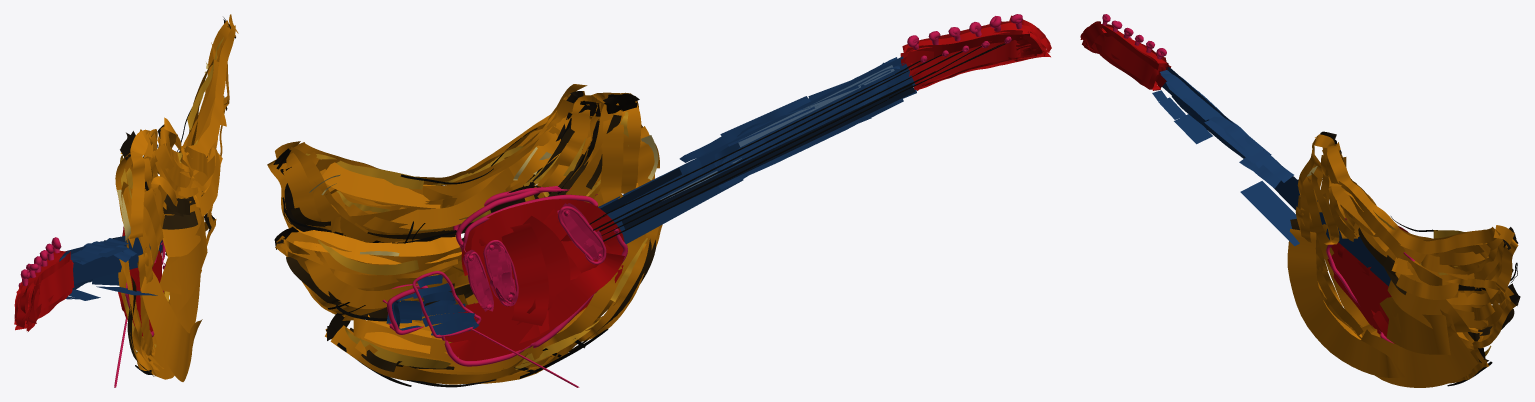
Rendered from guitar.fbx.
3 views of the same model, side by side, from view 1: azimuth 30°, elevation 25°; view 2: azimuth 150°, elevation 25°; view 3: azimuth 270°, elevation 25° (orthographic). The views are drawn at different scales.
Visible parts, largest first — view 1: group_6; view 2: group_6; view 3: group_6.
Part boxes in pixels (x1,y1,x2,y2): group_6: (14,14,238,387); group_6: (267,14,1051,387); group_6: (1080,14,1520,387).
Size of the model in its own units: 144 by 86.99 by 144.
